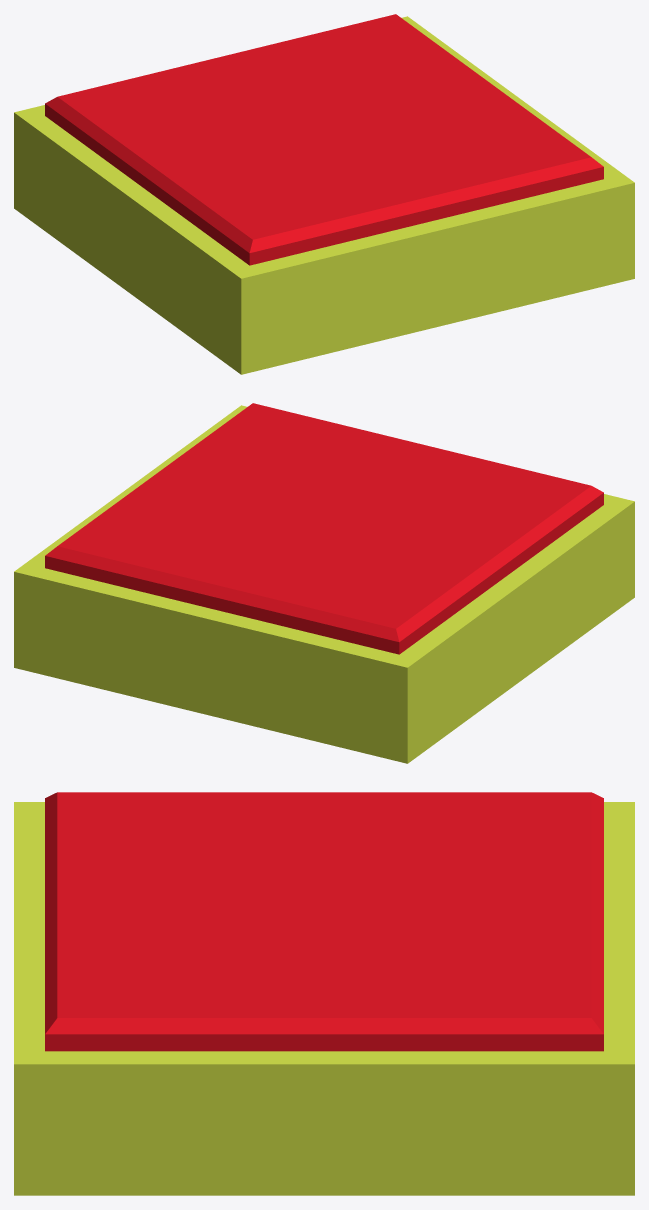
The model's file is Floor1.fbx.
3 views of the same model, one above another, from view 1: azimuth 30°, elevation 25°; view 2: azimuth 150°, elevation 25°; view 3: azimuth 270°, elevation 25° (orthographic). The views are drawn at different scales.
Visible parts, largest first — view 1: Cube; view 2: Cube; view 3: Cube.
Part boxes in pixels (x1,y1,x2,y2): Cube: (14,14,634,374); Cube: (14,403,634,763); Cube: (14,792,634,1195).
Size of the model in its own units: 200 by 56.64 by 200.
